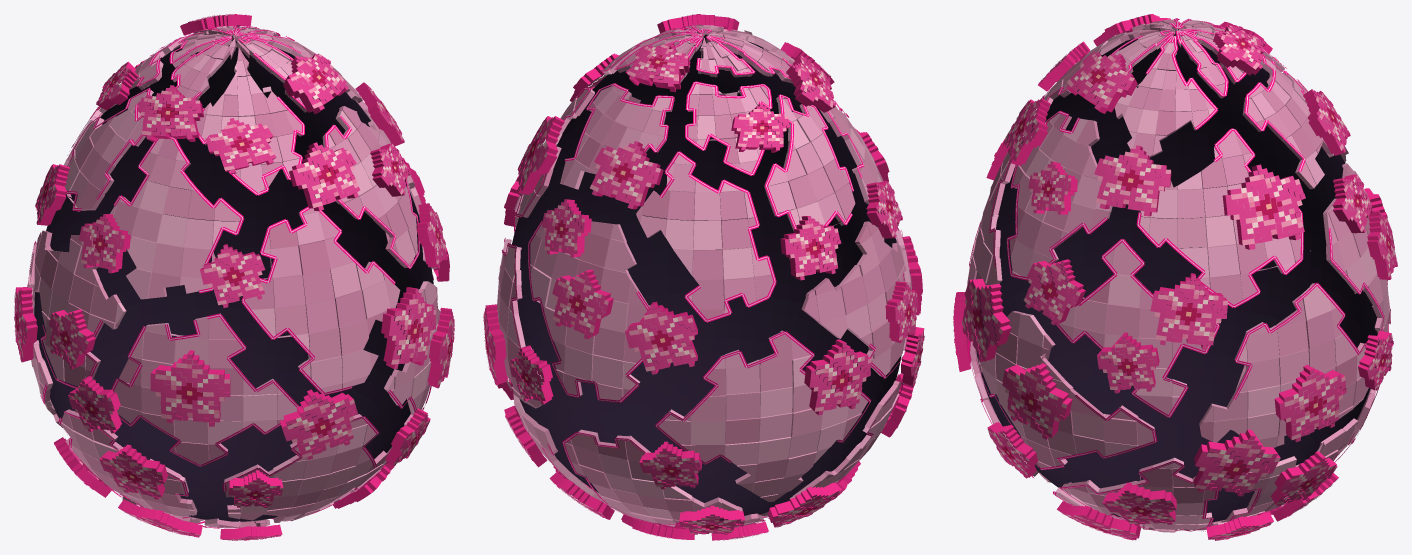
Rendered from Sakura_Neon_Egg_v8.fbx.
3 views of the same model, side by side, from view 1: azimuth 30°, elevation 25°; view 2: azimuth 150°, elevation 25°; view 3: azimuth 270°, elevation 25° (orthographic). The views are drawn at different scales.
Parts seen in each view (by area): view 1: Sakura_Neon_Egg_v8; view 2: Sakura_Neon_Egg_v8; view 3: Sakura_Neon_Egg_v8.
Boxes of the visible parts, <box> form: Sakura_Neon_Egg_v8: <box>14,14,454,540</box>; Sakura_Neon_Egg_v8: <box>483,14,924,540</box>; Sakura_Neon_Egg_v8: <box>953,14,1397,540</box>.
Bounding box in the file's own units: 82.24 × 100 × 81.84.
1 material, 1 textured.
